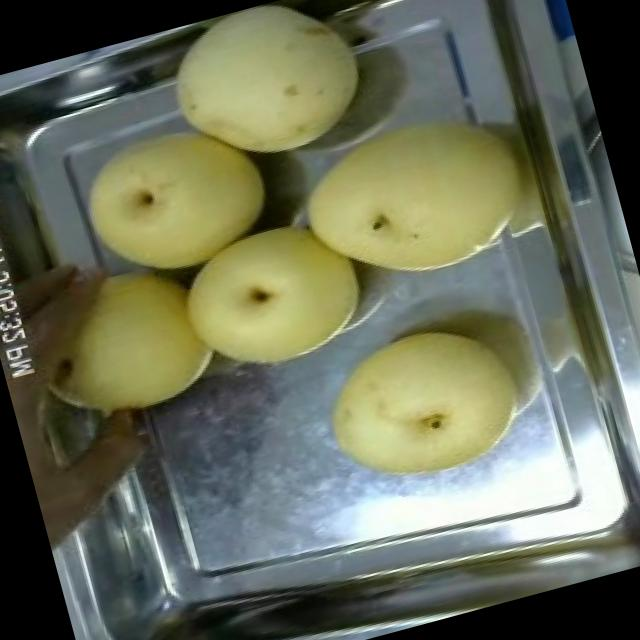Fruit: (274, 78, 552, 316), (0, 217, 241, 454), (54, 88, 298, 308), (300, 299, 541, 509), (139, 0, 392, 193), (156, 194, 384, 396)
